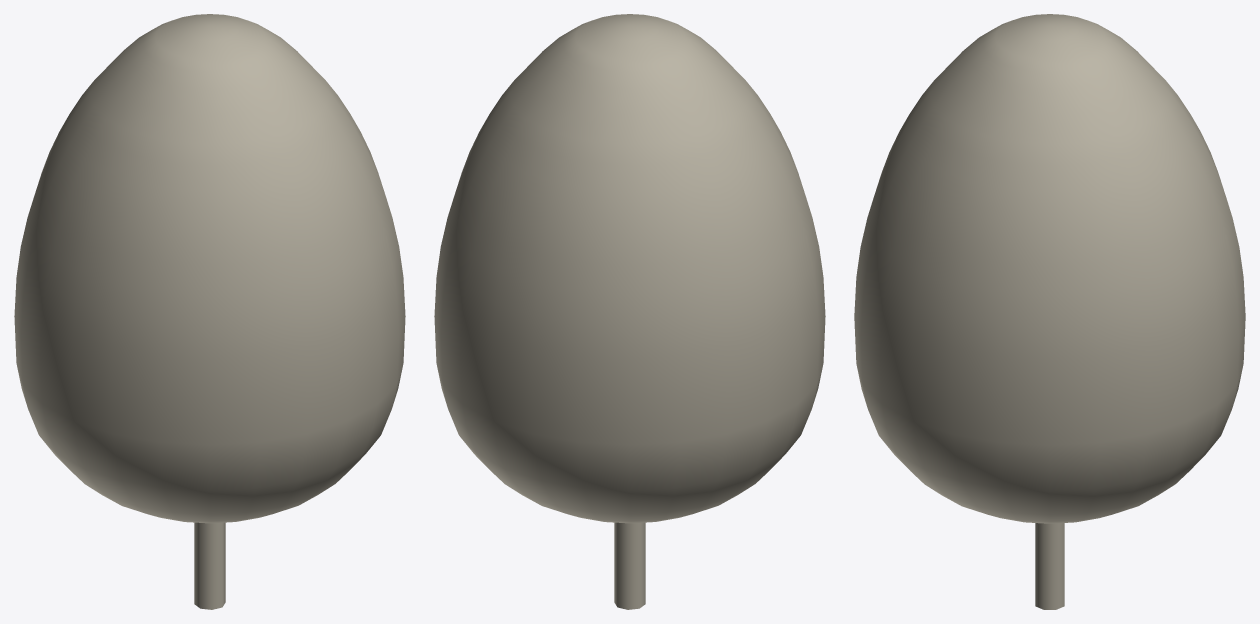
File: GenericDead.glb
3 renders of one model, left to right at view 1: azimuth 30°, elevation 25°; view 2: azimuth 150°, elevation 25°; view 3: azimuth 270°, elevation 25°, orthographic.
Parts seen in each view (by area): view 1: Generic_Dead_Tree__Schematic_LOD3; view 2: Generic_Dead_Tree__Schematic_LOD3; view 3: Generic_Dead_Tree__Schematic_LOD3.
Boxes of the visible parts, left/top/right/bottom form: Generic_Dead_Tree__Schematic_LOD3: left=14, top=14, right=405, bottom=609; Generic_Dead_Tree__Schematic_LOD3: left=434, top=14, right=825, bottom=609; Generic_Dead_Tree__Schematic_LOD3: left=854, top=14, right=1245, bottom=609.
Size of the model in its own units: 13.66 by 22.26 by 13.66.
